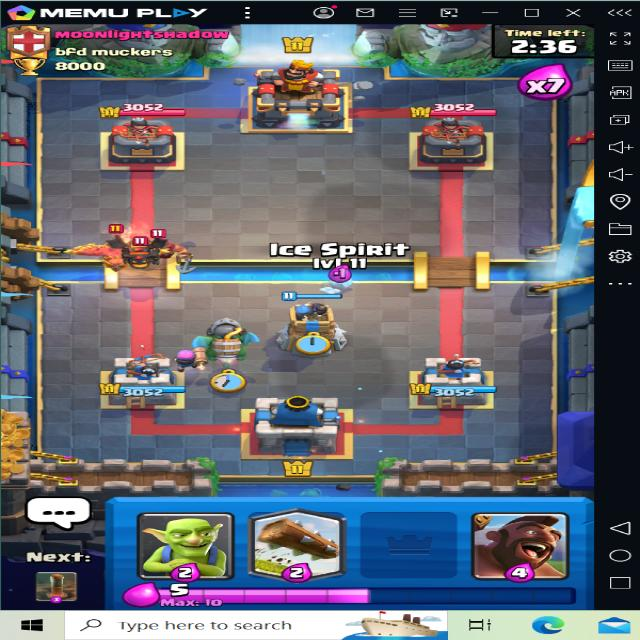fisherman: (123, 228, 203, 265)
lava-hound: (97, 225, 178, 268)
phoenix: (75, 229, 173, 274)
